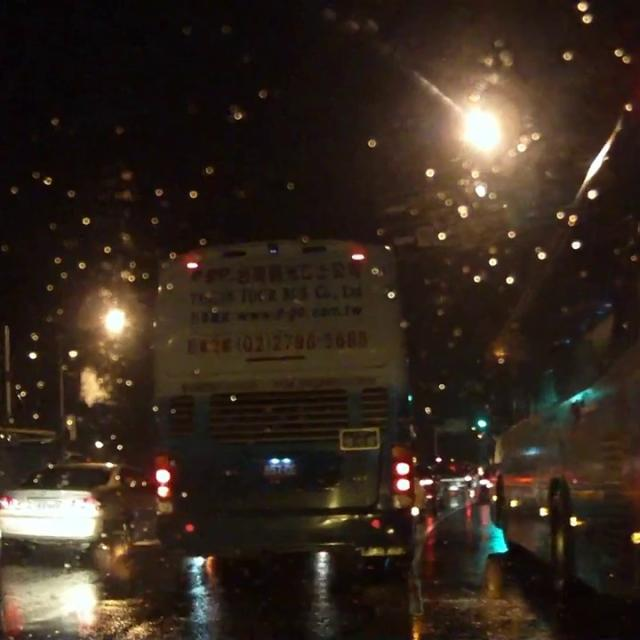Car: (0, 459, 152, 555), (437, 456, 477, 502), (413, 461, 442, 511), (476, 457, 493, 505)
